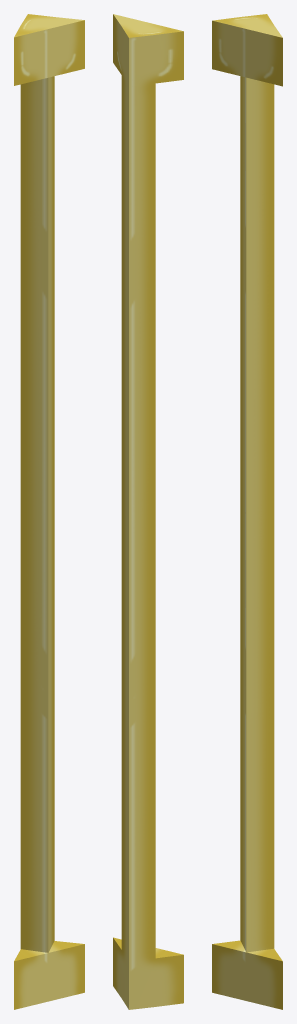
File: S1_InF_GoalPole(1).fbx
3 renders of one model, left to right at view 1: azimuth 30°, elevation 25°; view 2: azimuth 150°, elevation 25°; view 3: azimuth 330°, elevation 25°, orthographic.
Visible parts, largest first — view 1: S1_InF_GoalPole2; view 2: S1_InF_GoalPole2; view 3: S1_InF_GoalPole2.
Boxes of the visible parts, box(x1,y1,x2,y2) form: S1_InF_GoalPole2: box(14, 14, 84, 1009); S1_InF_GoalPole2: box(113, 14, 183, 1009); S1_InF_GoalPole2: box(212, 14, 282, 1009).
Bounding box in the file's own units: 0.0764 × 1 × 0.0383.
